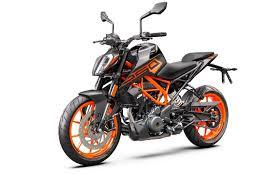motorcycle: (49, 0, 241, 171)
